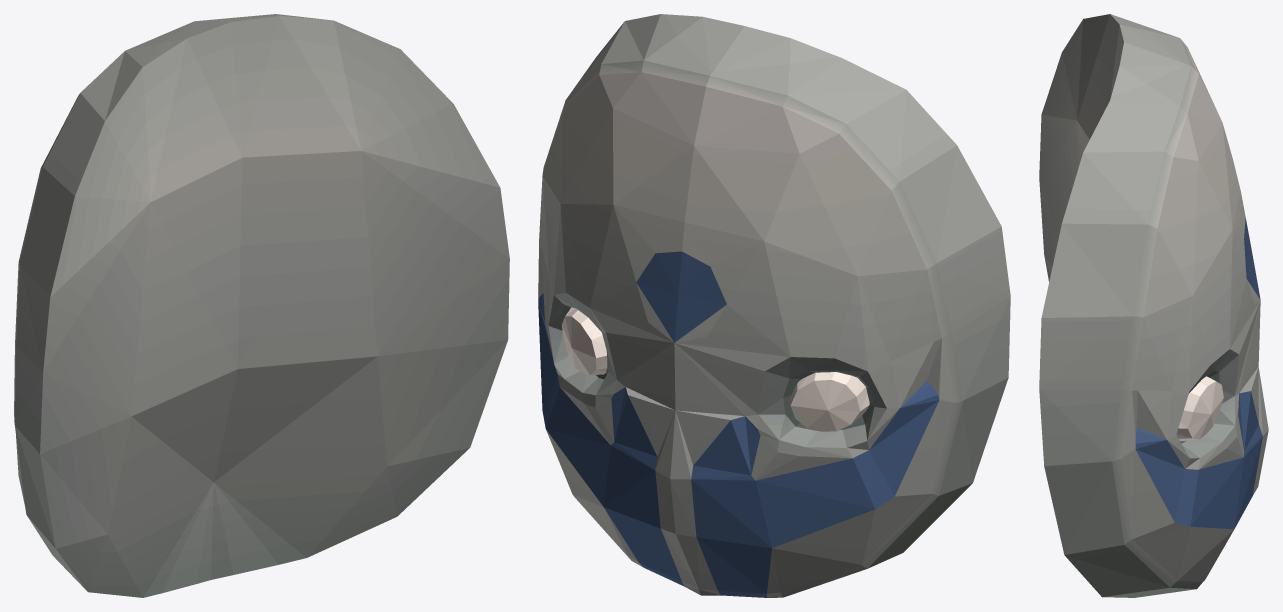
The model's file is CharSkyKid_Mask_AP03G.glb.
3 renders of one model, left to right at view 1: azimuth 30°, elevation 25°; view 2: azimuth 150°, elevation 25°; view 3: azimuth 270°, elevation 25°, orthographic. The views are drawn at different scales.
Parts seen in each view (by area): view 1: CharSkyKid_Mask_AP03G; view 2: CharSkyKid_Mask_AP03G; view 3: CharSkyKid_Mask_AP03G.
Boxes of the visible parts, x1=… form: CharSkyKid_Mask_AP03G: x1=14, y1=14, x2=509, y2=597; CharSkyKid_Mask_AP03G: x1=538, y1=14, x2=1010, y2=597; CharSkyKid_Mask_AP03G: x1=1039, y1=14, x2=1268, y2=597.
Size of the model in its own units: 2.11 by 2.46 by 0.9658.
1 material, 1 textured.
